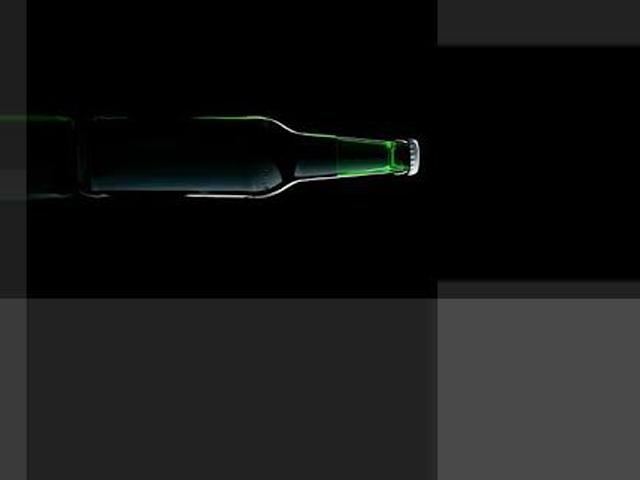beer: (82, 116, 420, 201)
